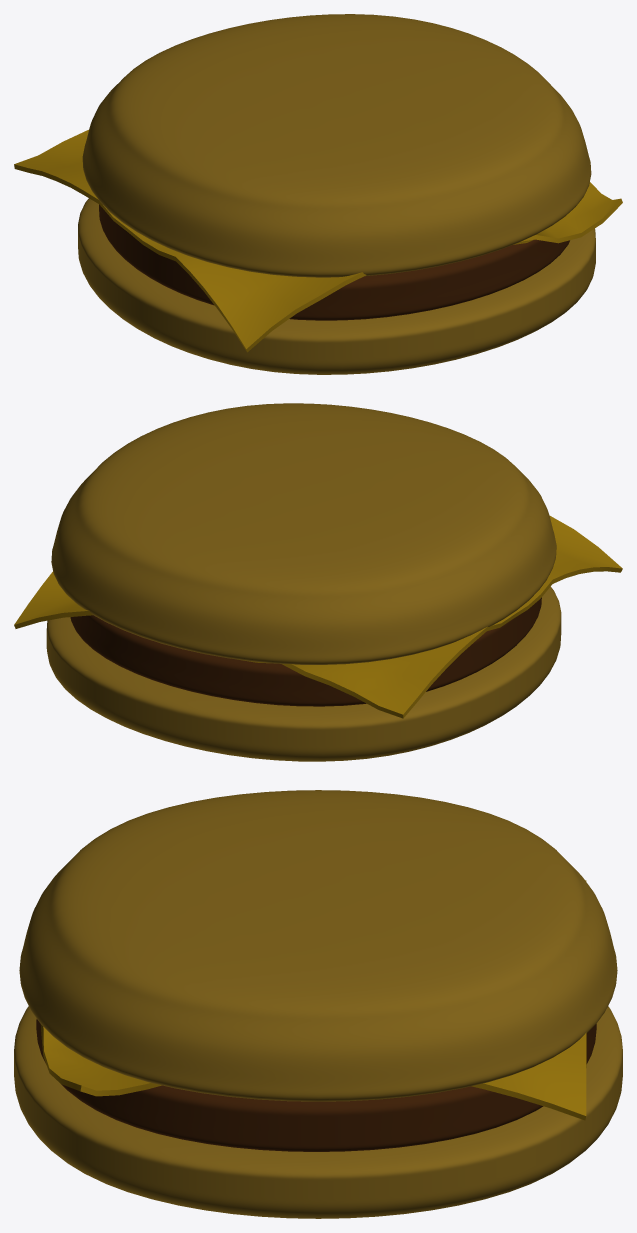
The model's file is hamburger.glb.
3 views of the same model, one above another, from view 1: azimuth 30°, elevation 25°; view 2: azimuth 150°, elevation 25°; view 3: azimuth 270°, elevation 25° (orthographic). The views are drawn at different scales.
Parts seen in each view (by area): view 1: Cube.002, Cube, Cube.001, Plane; view 2: Cube.002, Cube, Cube.001, Plane; view 3: Cube.002, Cube, Cube.001, Plane.
Part boxes in pixels (x1,y1,x2,y2): Cube.002: [82, 14, 591, 277]; Cube: [78, 198, 595, 374]; Cube.001: [99, 204, 569, 320]; Plane: [14, 130, 622, 352]; Cube.002: [51, 403, 556, 664]; Cube: [46, 586, 561, 761]; Cube.001: [70, 597, 541, 706]; Plane: [14, 515, 622, 718]; Cube.002: [19, 790, 617, 1101]; Cube: [14, 1006, 622, 1218]; Cube.001: [36, 1019, 596, 1151]; Plane: [40, 880, 586, 1120].
Size of the model in its own units: 8.15 by 3.51 by 8.15.
